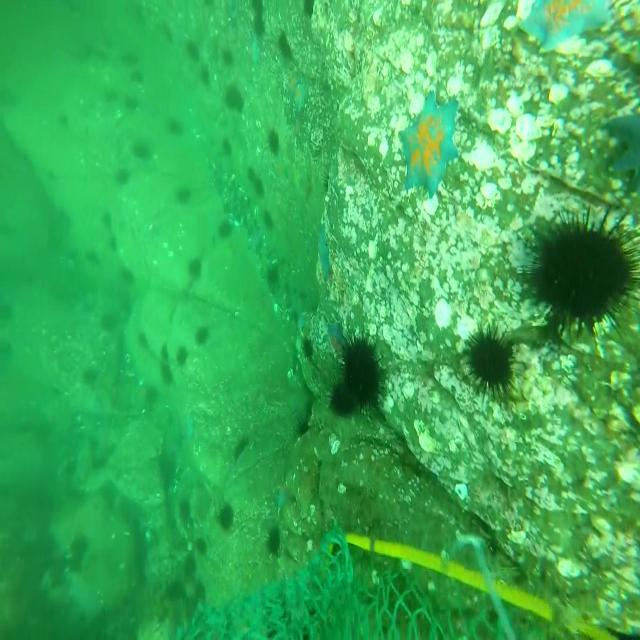echinus: (517, 203, 640, 344), (462, 321, 520, 404), (341, 326, 382, 414), (327, 381, 356, 420), (264, 523, 282, 560), (224, 86, 244, 114), (277, 27, 293, 62), (217, 501, 235, 532), (294, 406, 311, 438), (166, 576, 185, 604), (164, 114, 186, 138), (71, 533, 88, 561), (266, 127, 281, 158), (193, 322, 210, 349), (188, 254, 204, 281), (177, 498, 192, 526), (234, 436, 250, 462), (132, 138, 150, 161), (301, 332, 315, 361), (0, 296, 14, 324), (81, 364, 98, 387), (253, 13, 268, 39), (266, 265, 281, 291), (0, 332, 13, 361), (217, 218, 234, 240), (182, 552, 197, 576), (121, 50, 141, 68), (186, 40, 200, 65), (122, 95, 140, 114), (99, 312, 116, 332), (146, 383, 160, 407), (160, 364, 175, 386), (129, 68, 147, 86), (119, 264, 135, 284), (103, 87, 119, 107), (262, 208, 276, 230), (176, 345, 189, 368), (176, 185, 191, 204), (57, 110, 71, 130), (200, 63, 211, 88), (195, 535, 208, 556), (302, 0, 317, 18), (116, 166, 130, 185), (163, 22, 174, 46), (84, 248, 99, 265), (222, 135, 233, 158), (137, 329, 149, 348), (223, 48, 233, 68), (160, 342, 171, 360), (246, 164, 256, 183), (250, 1, 264, 14), (254, 180, 264, 197), (101, 210, 111, 227), (108, 235, 118, 251)
starfish: (396, 86, 460, 201), (520, 0, 614, 57), (606, 99, 640, 194), (316, 225, 332, 284), (326, 317, 346, 348), (292, 80, 307, 107)
